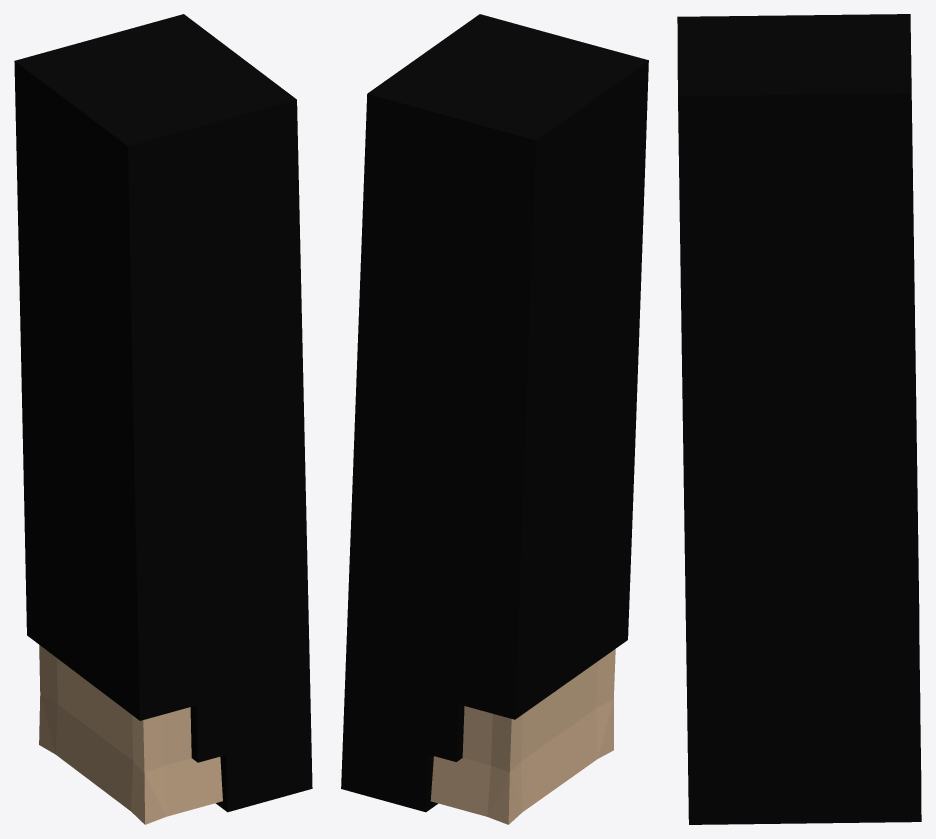
The model's file is arm.obj.
3 renders of one model, left to right at view 1: azimuth 30°, elevation 25°; view 2: azimuth 150°, elevation 25°; view 3: azimuth 270°, elevation 25°, orthographic. The views are drawn at different scales.
Visible parts, largest first — view 1: Character.015_Cube.022; view 2: Character.015_Cube.022; view 3: Character.015_Cube.022.
Boxes of the visible parts, <box> form: Character.015_Cube.022: <box>14,14,312,824</box>; Character.015_Cube.022: <box>341,14,648,824</box>; Character.015_Cube.022: <box>677,14,921,824</box>.
Size of the model in its own units: 0.2042 by 0.7215 by 0.2204.
Materials: 1 (1 with a texture image).
